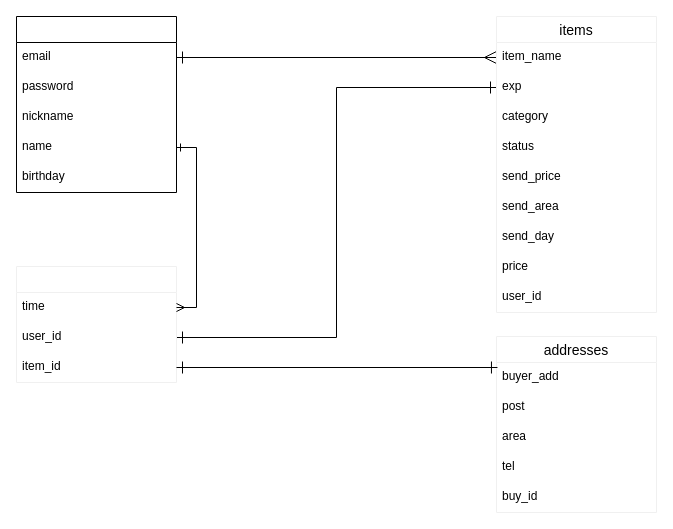
Image size: 673x529. Some labels were removed from this diagram. The shapes that lost their labels are listed below. From the top down, each one's box as (x1, y1, x2, y2) in pixels, then its label:
(16, 16, 176, 192): users
(16, 266, 176, 382): buys
